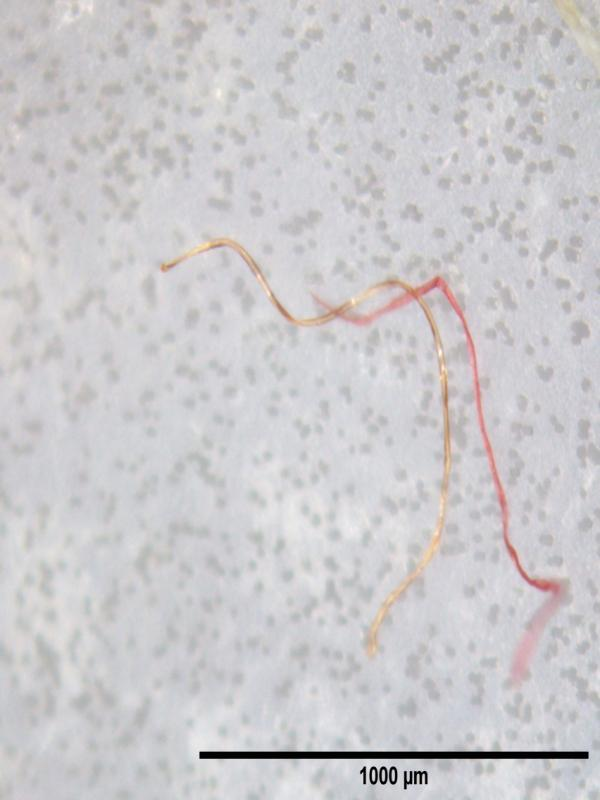microplastic: (158, 233, 566, 685)
